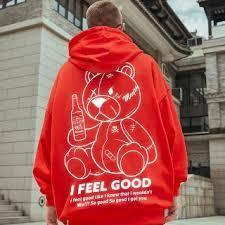sweater: (27, 29, 190, 224)
